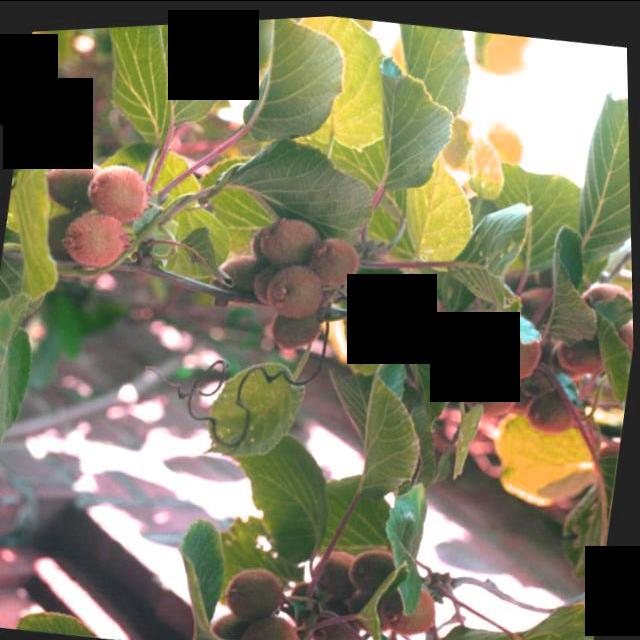kiwi: (86, 155, 160, 222), (452, 304, 523, 373), (63, 204, 136, 271), (45, 148, 118, 211), (373, 577, 443, 640), (260, 210, 330, 272), (225, 560, 293, 622), (265, 259, 332, 321), (313, 543, 381, 599), (42, 204, 106, 263), (388, 285, 452, 344), (348, 542, 413, 598), (461, 365, 524, 422), (482, 325, 541, 384), (311, 232, 368, 287), (273, 300, 329, 351), (207, 603, 276, 640), (308, 598, 367, 640), (237, 607, 307, 640)
